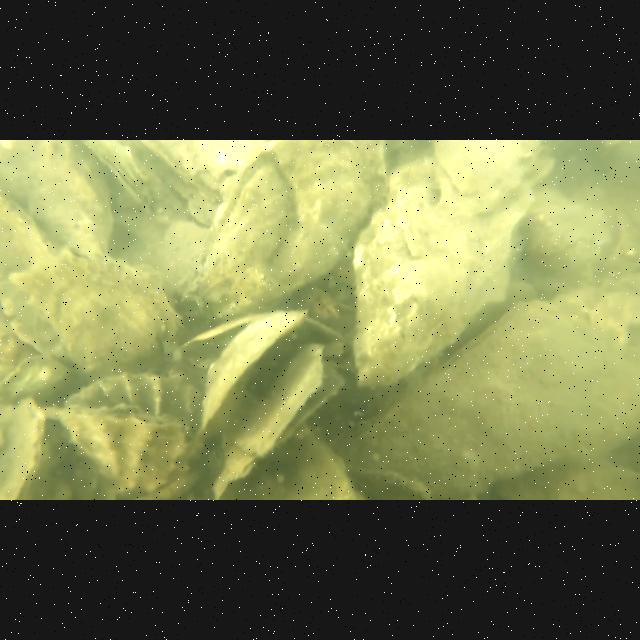Oyster-Closed: (342, 296, 640, 500), (353, 140, 535, 392), (12, 244, 180, 380), (264, 140, 388, 304), (54, 398, 192, 494), (0, 140, 114, 256), (0, 194, 50, 304), (80, 140, 152, 212), (0, 396, 46, 499)
Oyster-Open: (193, 308, 323, 460), (195, 146, 297, 300)
